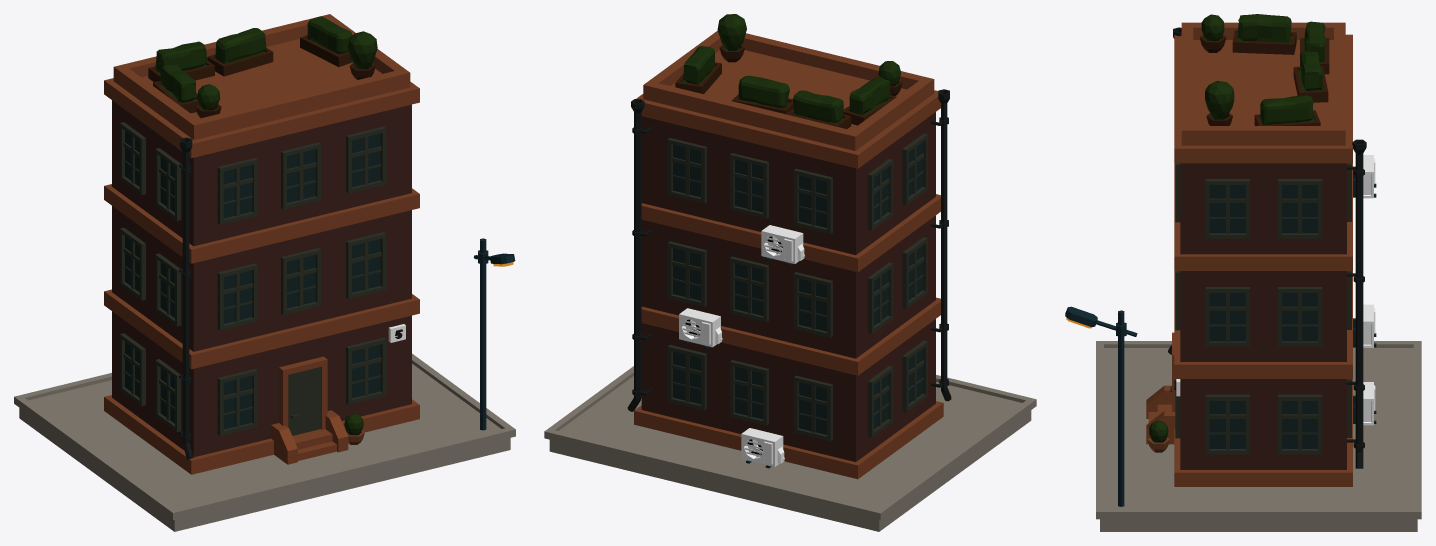
The model's file is House_05.fbx.
The picture shows the model from 3 angles, left to right: view 1: azimuth 30°, elevation 25°; view 2: azimuth 150°, elevation 25°; view 3: azimuth 270°, elevation 25°; orthographic projection. The views are drawn at different scales.
Parts seen in each view (by area): view 1: Plane102, Box15908, Box15910, Box15912, Box15904, Rectangle025, Box15909, Box15911, Box15913, Box15914, Cylinder1722, window_173 (+24 smaller); view 2: Plane102, Box15908, Box15910, Box15912, Box15904, Rectangle025, Box15909, Box15914, Box15911, Box15913, Cylinder1723, window_176 (+24 smaller); view 3: Plane102, Box15904, Box15908, Box15910, Box15912, Rectangle025, Box15909, Box15913, Box15911, Box15914, Cylinder1723, window_189 (+18 smaller).
Part boxes in pixels (box(x1,y1,x2,y2)): Plane102: box(19, 364, 510, 531); Box15908: box(112, 100, 411, 246); Box15910: box(112, 206, 411, 351); Box15912: box(112, 311, 411, 457); Box15904: box(113, 14, 410, 139); Rectangle025: box(14, 353, 515, 519); Box15909: box(104, 78, 419, 158); Box15911: box(104, 184, 419, 263); Box15913: box(104, 289, 419, 369); Box15914: box(104, 395, 419, 474); Cylinder1722: box(180, 137, 193, 459); window_173: box(346, 126, 386, 193); Plane102: box(549, 376, 1031, 531); Box15908: box(641, 112, 935, 255); Box15910: box(641, 215, 935, 358); Box15912: box(641, 319, 935, 461); Box15904: box(643, 31, 934, 150); Rectangle025: box(544, 366, 1036, 520); Box15909: box(636, 90, 940, 168); Box15914: box(634, 401, 943, 479); Box15911: box(641, 194, 940, 272); Box15913: box(641, 297, 940, 375); Cylinder1723: box(627, 99, 644, 411); window_176: box(793, 168, 832, 234); Plane102: box(1100, 348, 1417, 531); Box15904: box(1181, 22, 1345, 145); Box15908: box(1180, 163, 1346, 254); Box15910: box(1180, 271, 1346, 361); Box15912: box(1180, 379, 1346, 469); Rectangle025: box(1096, 341, 1421, 519); Box15909: box(1174, 34, 1352, 163); Box15913: box(1174, 271, 1352, 378); Box15911: box(1174, 163, 1352, 270); Box15914: box(1174, 379, 1352, 486); Cylinder1723: box(1352, 139, 1366, 468); window_189: box(1278, 394, 1322, 454).
Size of the model in its own units: 1020 by 1126 by 897.
